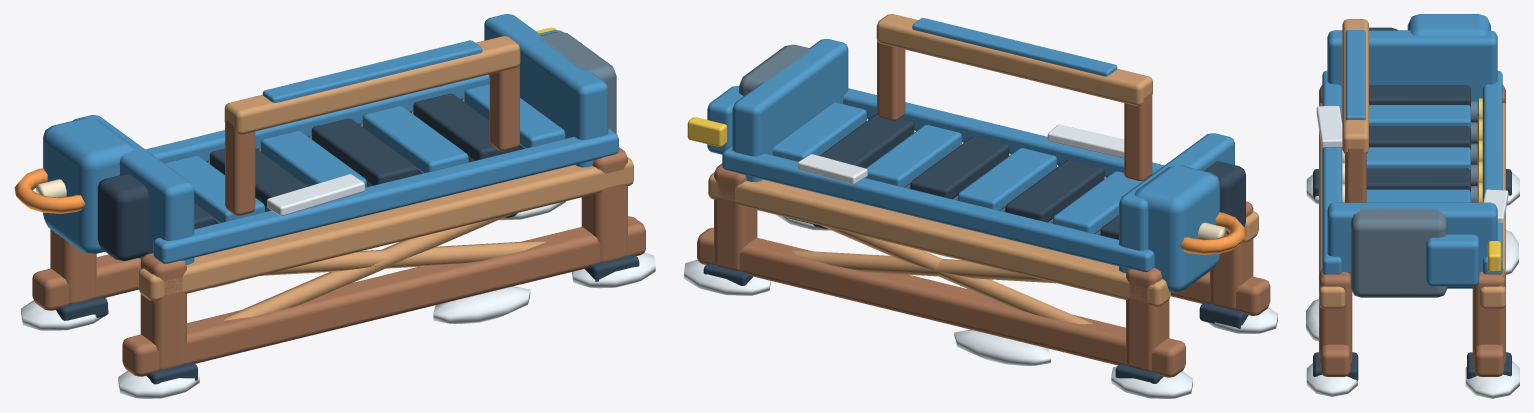
Rendered from conveyor_straight.glb.
The picture shows the model from 3 angles, left to right: view 1: azimuth 30°, elevation 25°; view 2: azimuth 150°, elevation 25°; view 3: azimuth 270°, elevation 25°; orthographic projection. The views are drawn at different scales.
Visible parts, largest first — view 1: conveyor_straight; view 2: conveyor_straight; view 3: conveyor_straight.
Boxes of the visible parts, x1,y1,x2,y2 form: conveyor_straight: (14, 14, 655, 398); conveyor_straight: (684, 14, 1277, 398); conveyor_straight: (1306, 14, 1519, 398).
Size of the model in its own units: 3.36 by 1.46 by 1.28.
